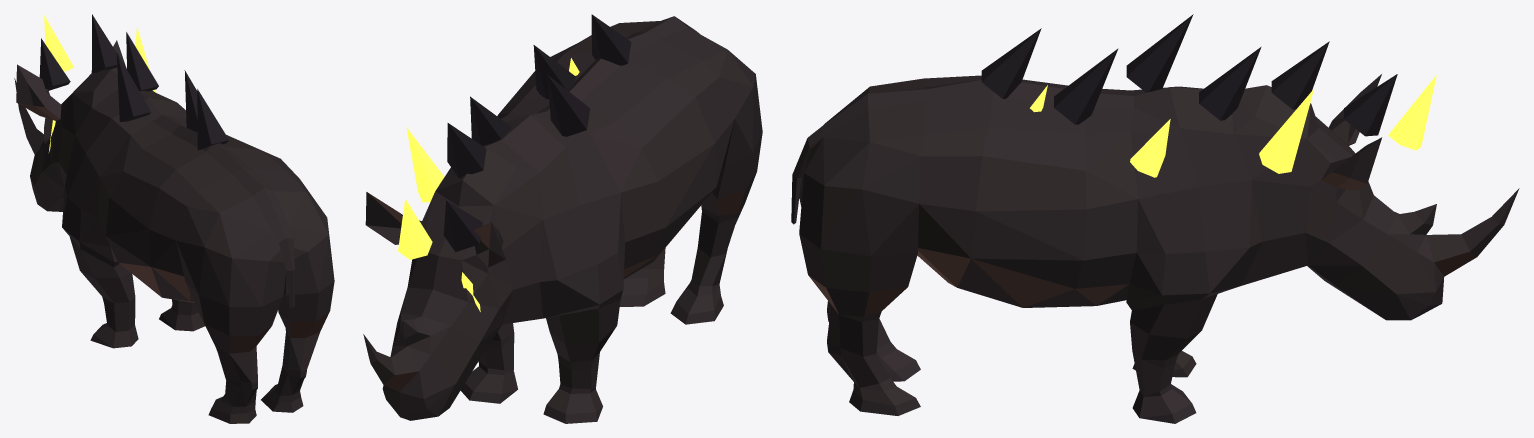
File: MagmaRhino.fbx
The picture shows the model from 3 angles, left to right: view 1: azimuth 30°, elevation 25°; view 2: azimuth 150°, elevation 25°; view 3: azimuth 270°, elevation 25°; orthographic projection. The views are drawn at different scales.
Parts seen in each view (by area): view 1: Head, Body, LegFL, Deco_Spikes, LegFR, LegBL, Glow_ff6814, Tail1; view 2: Body, Head, LegBL, Deco_Spikes, LegFL, Glow_ff6814, LegFR, LegBR, Tail1; view 3: Body, Head, Deco_Spikes, LegFR, LegBR, Glow_ff6814, Tail1, LegFL.
Part boxes in pixels (x1,y1,x2,y2): Head: (149,143,334,382); Body: (16,40,264,297); LegFL: (79,242,257,423); Deco_Spikes: (39,14,228,150); LegFR: (161,299,306,412); LegBL: (30,152,114,347); Glow_ff6814: (44,15,156,152); Tail1: (14,78,43,173); Body: (365,53,734,383); Head: (550,16,762,222); LegBL: (399,300,620,423); Deco_Spikes: (443,14,631,252); LegFL: (590,206,743,411); Glow_ff6814: (398,58,579,311); LegFR: (498,248,665,393); LegBR: (382,332,517,416); Tail1: (363,320,430,398); Body: (919,74,1436,307); Head: (791,75,992,342); Deco_Spikes: (981,14,1397,136); LegFR: (827,259,1186,417); LegBR: (1140,252,1444,423); Glow_ff6814: (1030,75,1436,177); Tail1: (1424,188,1519,276); LegFL: (827,302,1182,381).
Bounding box in the file's own units: 2.97 × 5.19 × 9.5.
3 materials, 1 textured.
